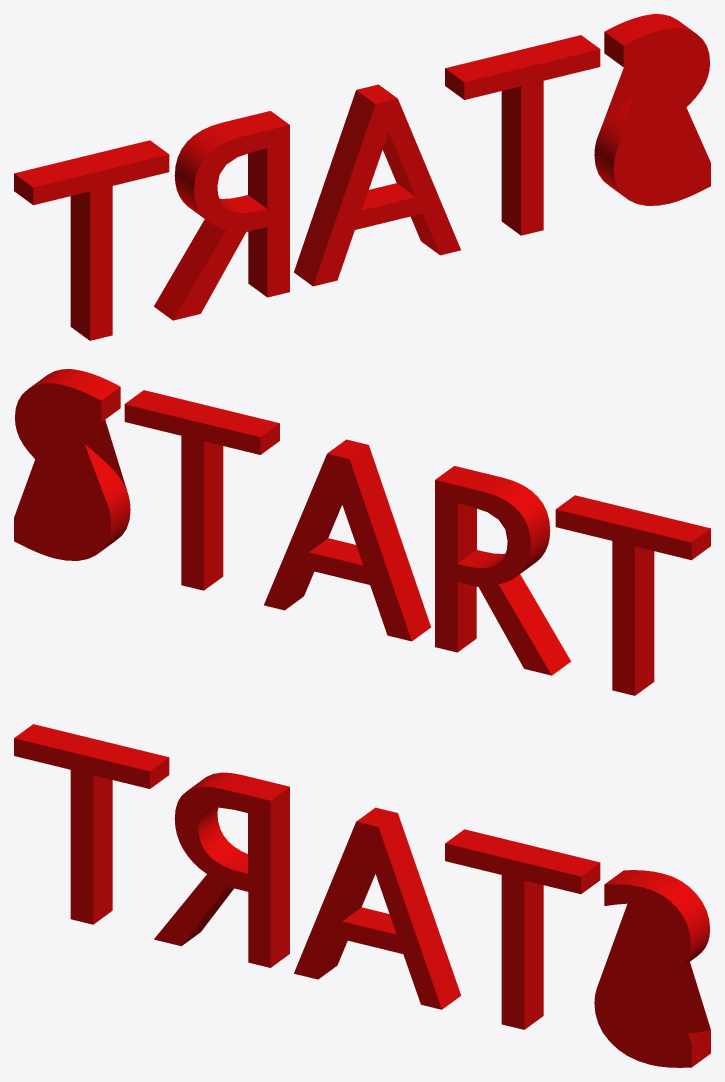
File: start.fbx
The picture shows the model from 3 angles, top to bottom: view 1: azimuth 30°, elevation 25°; view 2: azimuth 150°, elevation 25°; view 3: azimuth 330°, elevation 25°; orthographic projection.
Parts seen in each view (by area): view 1: start; view 2: start; view 3: start.
Boxes of the visible parts, bbox=[...] form: start: bbox=[14, 14, 710, 340]; start: bbox=[14, 369, 710, 695]; start: bbox=[14, 724, 710, 1067].
Bounding box in the file's own units: 246 × 60.92 × 12.14.
